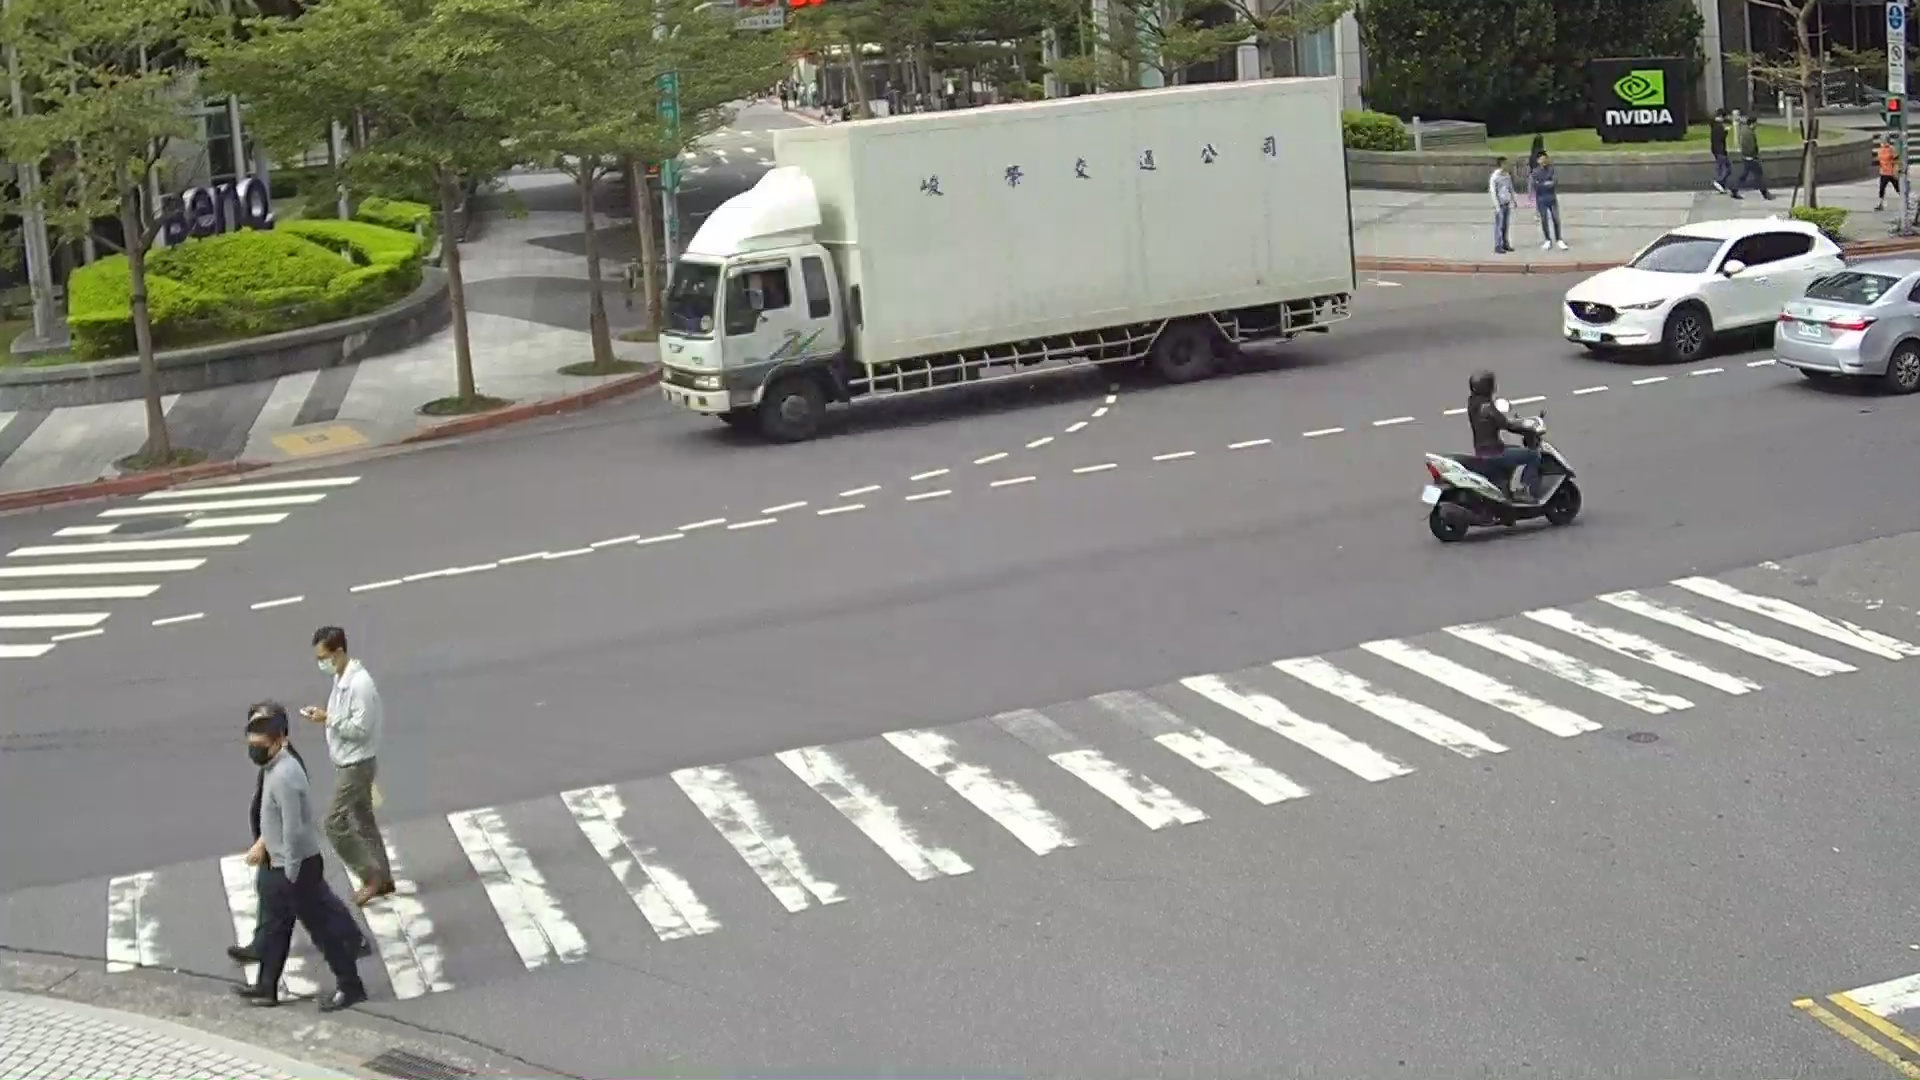bike: (1424, 433, 1585, 550)
pedestrian: (233, 701, 382, 1016), (300, 623, 397, 904), (1462, 365, 1550, 499), (1525, 149, 1566, 250), (1490, 156, 1515, 252), (1739, 108, 1766, 196), (1872, 138, 1904, 207), (1708, 111, 1733, 193)
vehicle: (704, 81, 1357, 456), (1566, 211, 1841, 367), (1771, 248, 1920, 397)
